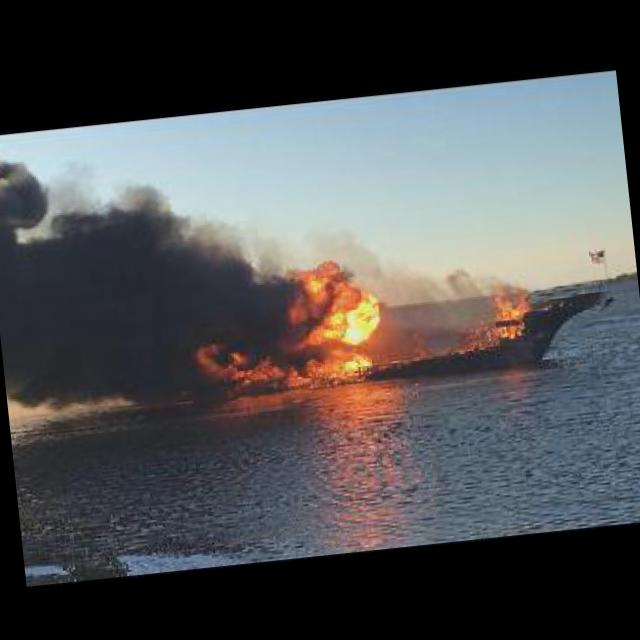fire: (292, 254, 388, 384), (477, 282, 528, 346)
smoke: (0, 136, 306, 424), (372, 230, 494, 361)
